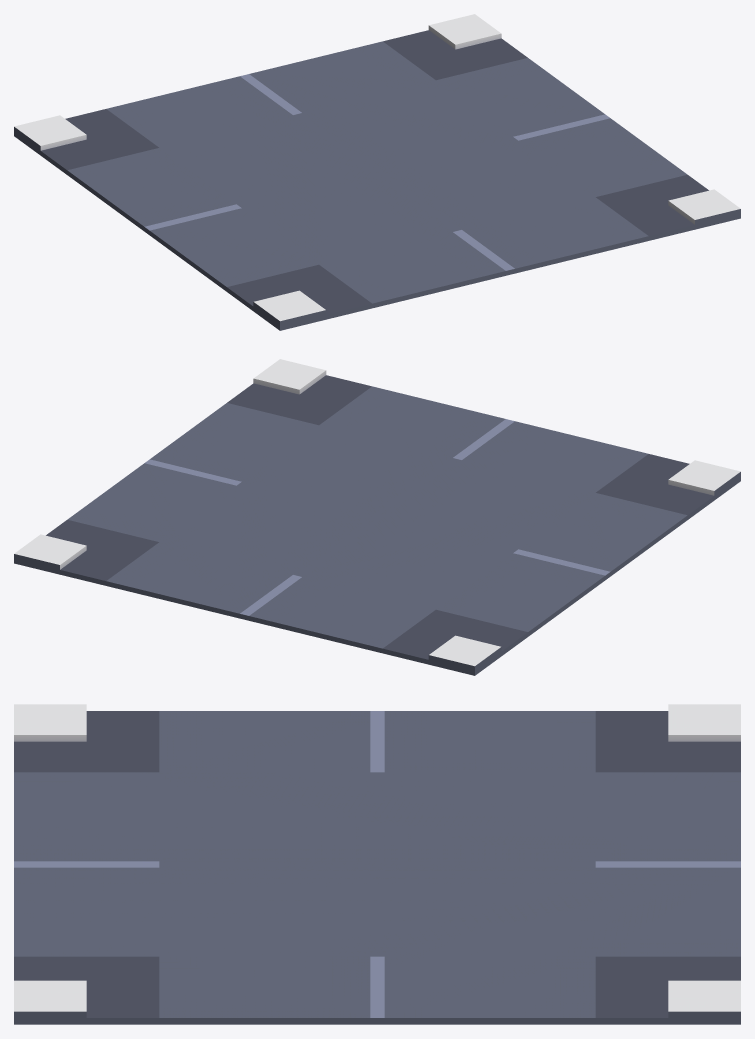
File: road-crossroad.glb
The picture shows the model from 3 angles, top to bottom: view 1: azimuth 30°, elevation 25°; view 2: azimuth 150°, elevation 25°; view 3: azimuth 270°, elevation 25°; orthographic projection. The views are drawn at different scales.
Visible parts, largest first — view 1: road-crossroad; view 2: road-crossroad; view 3: road-crossroad.
Boxes of the visible parts, x1,y1,x2,y2 form: road-crossroad: [14, 14, 740, 330]; road-crossroad: [14, 359, 740, 675]; road-crossroad: [14, 704, 740, 1024].
Size of the model in its own units: 1 by 0.02 by 1.
Materials: 1 (1 with a texture image).
